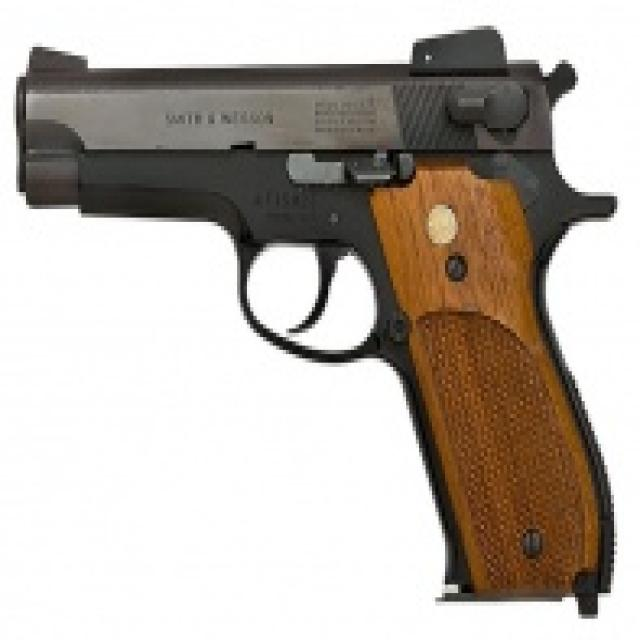pistol: (7, 14, 634, 624)
